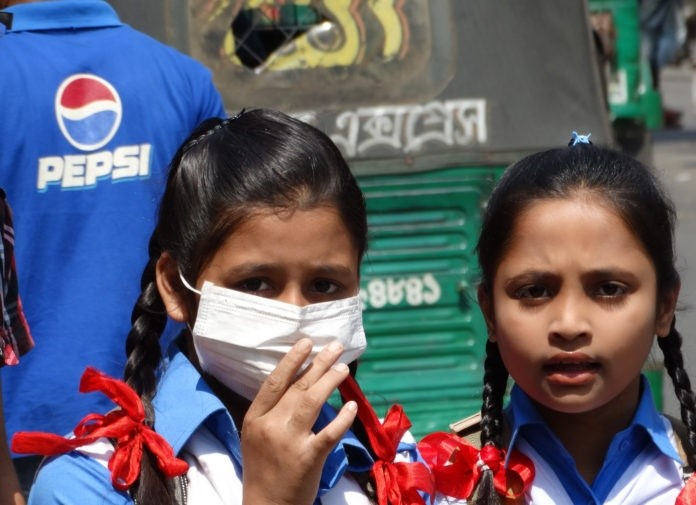face_no_mask: (477, 186, 677, 418)
face_with_mask: (156, 191, 375, 414)
